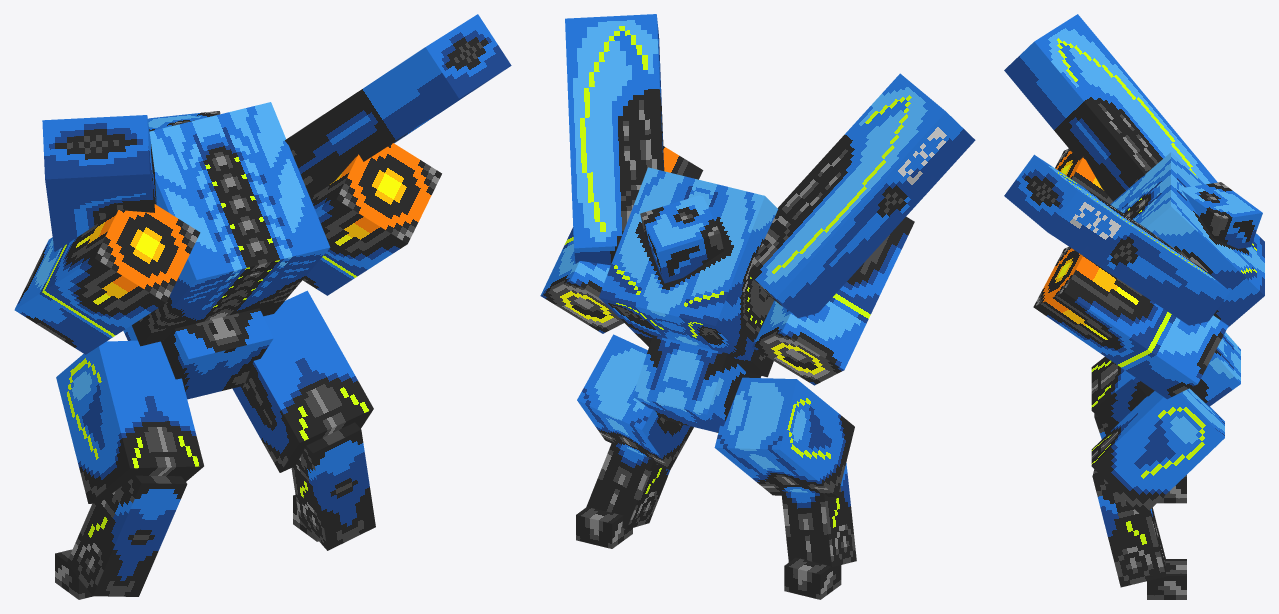
Rendered from player.glb.
3 views of the same model, side by side, from view 1: azimuth 30°, elevation 25°; view 2: azimuth 150°, elevation 25°; view 3: azimuth 270°, elevation 25° (orthographic). The views are drawn at different scales.
Parts seen in each view (by area): view 1: Cube.009_Blue_0; view 2: Cube.009_Blue_0; view 3: Cube.009_Blue_0.
Part boxes in pixels (bbox=[...]): Cube.009_Blue_0: bbox=[14, 14, 511, 599]; Cube.009_Blue_0: bbox=[540, 14, 975, 599]; Cube.009_Blue_0: bbox=[1004, 14, 1264, 599].
Bounding box in the file's own units: 6.61 × 7.23 × 3.84.
1 material, 1 textured.
